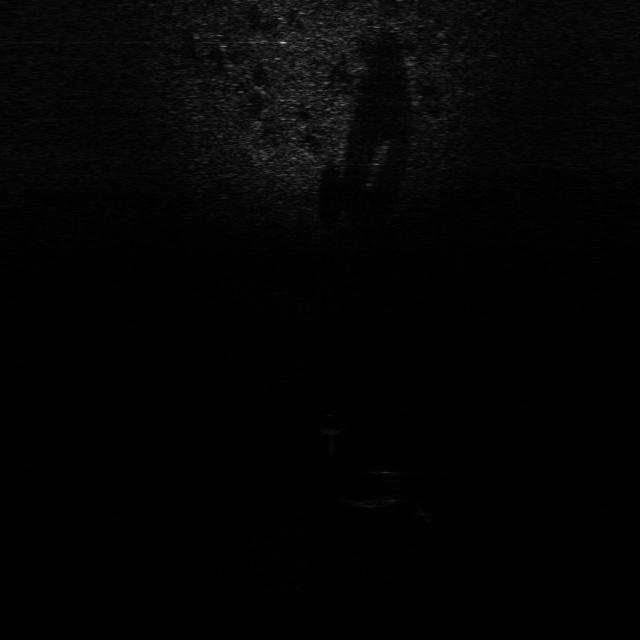ball: (310, 412, 350, 438)
tyre: (333, 464, 408, 511)
